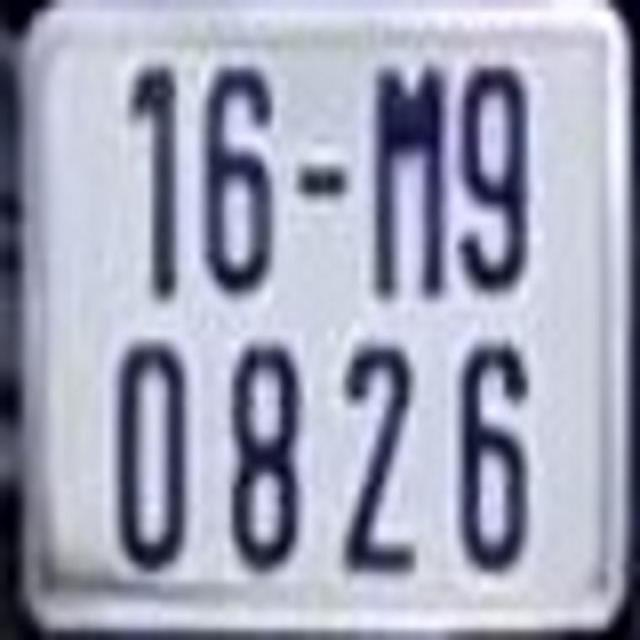0: (98, 334, 200, 582)
1: (108, 56, 192, 297)
2: (336, 322, 426, 581)
6: (446, 327, 536, 580), (196, 56, 280, 302)
8: (222, 328, 305, 569)
9: (453, 45, 536, 306)
M: (358, 56, 452, 296)
